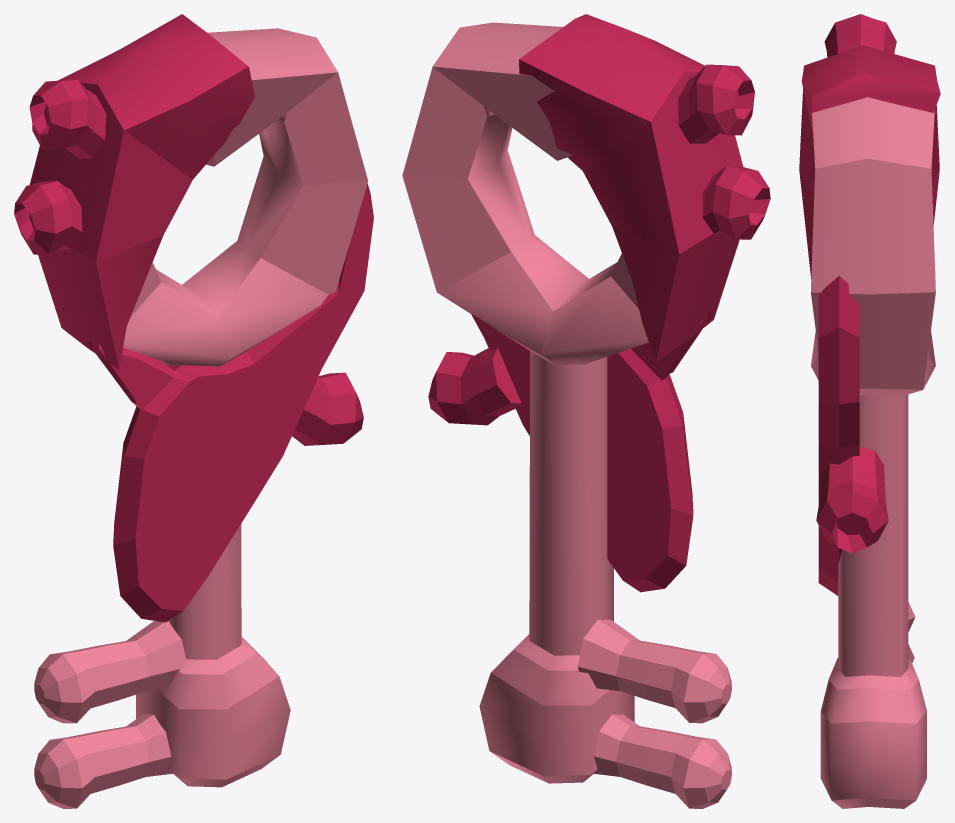
Rendered from LlaveCorazon.fbx.
3 renders of one model, left to right at view 1: azimuth 30°, elevation 25°; view 2: azimuth 150°, elevation 25°; view 3: azimuth 270°, elevation 25°, orthographic. The views are drawn at different scales.
Visible parts, largest first — view 1: Cylinder.005, Cylinder.011; view 2: Cylinder.011, Cylinder.005; view 3: Cylinder.011, Cylinder.005.
Part boxes in pixels (x1,y1,x2,y2): Cylinder.005: (14, 14, 373, 622); Cylinder.011: (34, 28, 368, 808); Cylinder.011: (402, 22, 731, 808); Cylinder.005: (428, 14, 770, 592); Cylinder.011: (811, 97, 935, 808); Cylinder.005: (799, 14, 940, 595).
Size of the model in its own units: 45 by 95.77 by 16.87.
